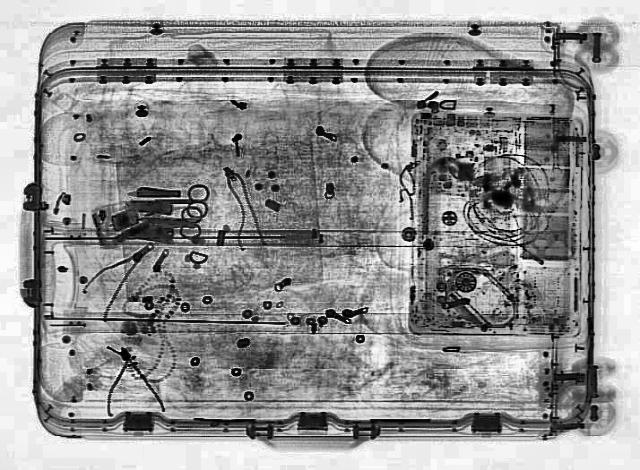Scissors: (132, 202, 206, 238), (146, 183, 212, 219)
